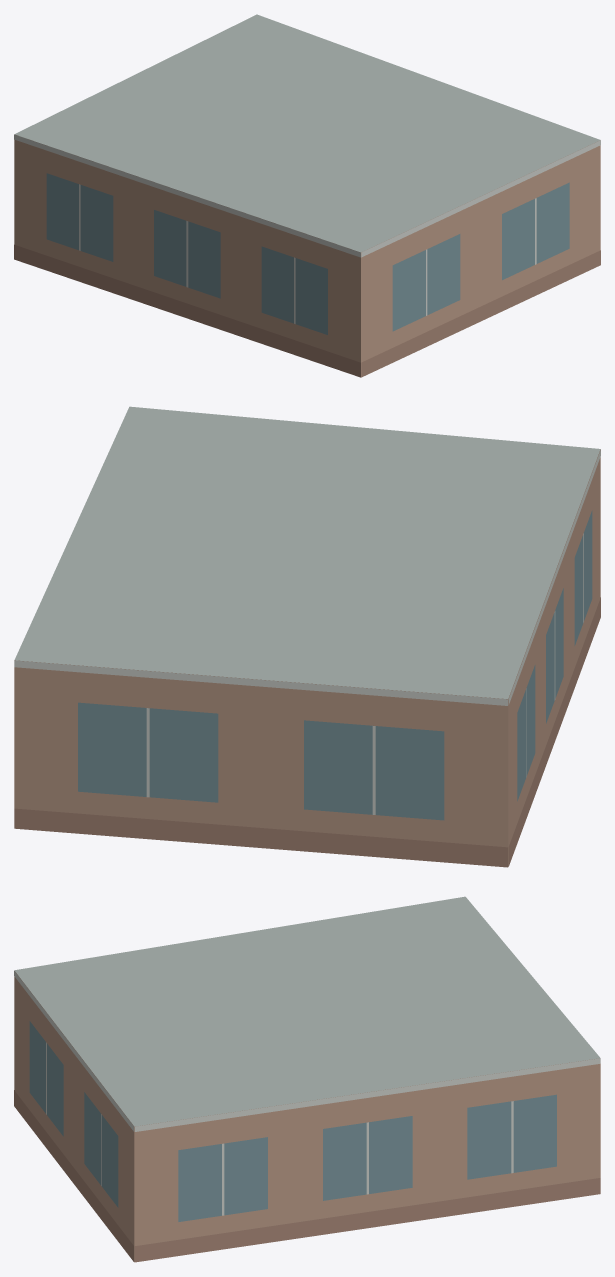
Rendered from survey-upis-32787649.glb.
3 views of the same model, one above another, from view 1: azimuth 30°, elevation 25°; view 2: azimuth 150°, elevation 25°; view 3: azimuth 270°, elevation 25° (orthographic). The views are drawn at different scales.
Parts seen in each view (by area): view 1: survey-upis-32787649.tmp; view 2: survey-upis-32787649.tmp; view 3: survey-upis-32787649.tmp.
Boxes of the visible parts, left/top/right/bottom form: survey-upis-32787649.tmp: left=14, top=14, right=600, bottom=377; survey-upis-32787649.tmp: left=14, top=406, right=600, bottom=867; survey-upis-32787649.tmp: left=14, top=896, right=600, bottom=1262.
Size of the model in its own units: 11.09 by 3.05 by 11.95.
